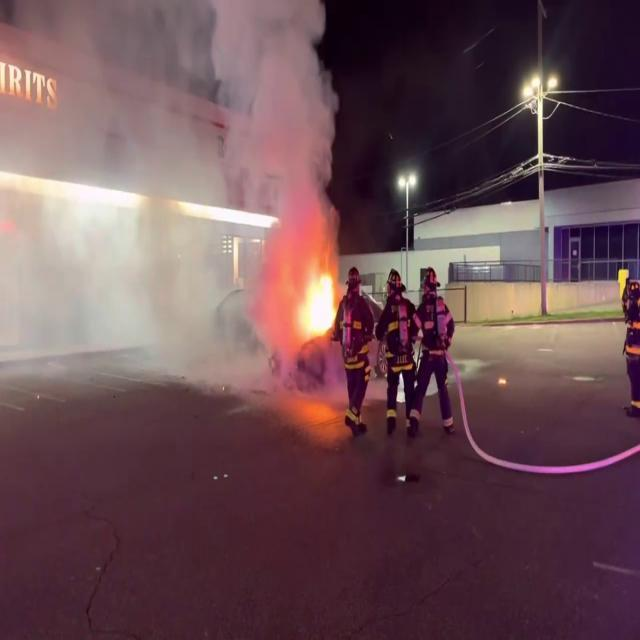Fire: (289, 254, 342, 348)
Smoke: (0, 0, 348, 403)
